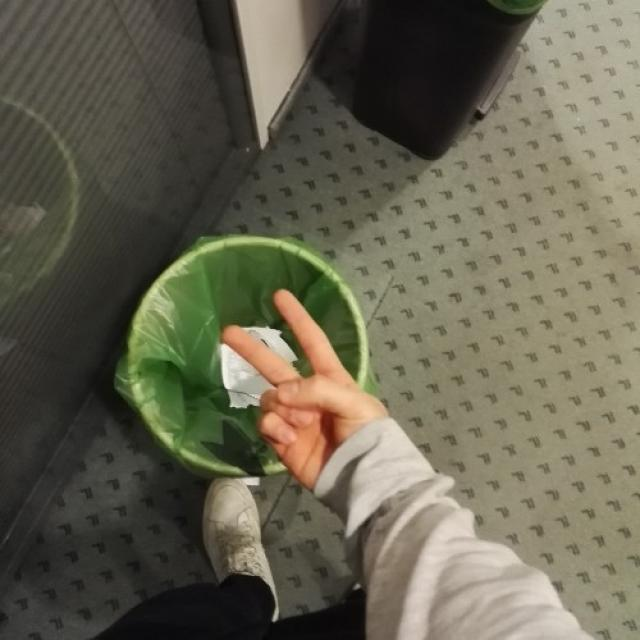scissors: (221, 289, 364, 491)
